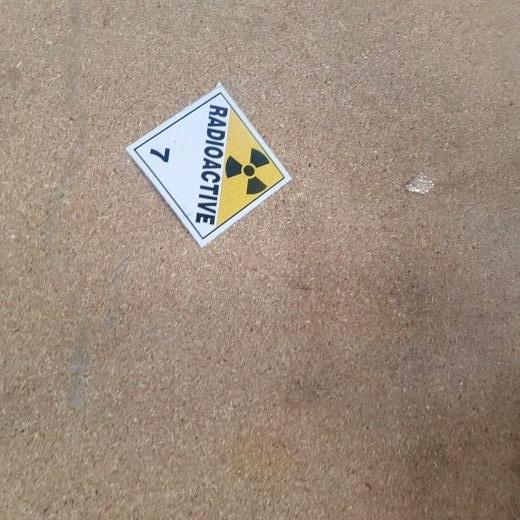radioactive: (133, 92, 284, 240)
